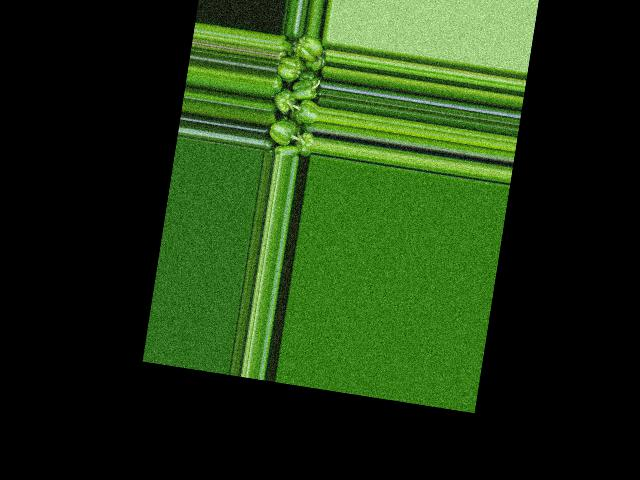bell_pepper: (262, 31, 328, 158)
